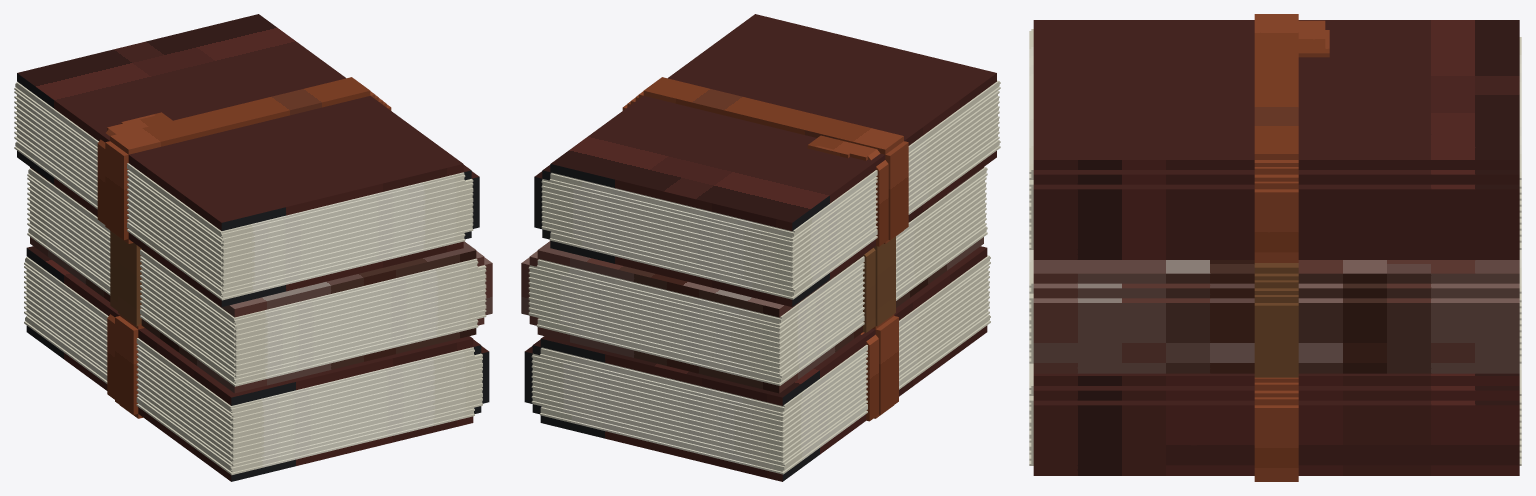
The model's file is stack_of_books_3.gltf.
3 views of the same model, side by side, from view 1: azimuth 30°, elevation 25°; view 2: azimuth 150°, elevation 25°; view 3: azimuth 270°, elevation 25° (orthographic). The views are drawn at different scales.
Visible parts, largest first — view 1: cube (×134); view 2: cube (×101); view 3: cube (×20).
Part boxes in pixels (box(x1,y1,x2,y2)): cube (×134): box(14, 14, 486, 481); cube (×101): box(528, 14, 1000, 481); cube (×20): box(1033, 14, 1519, 475).
Size of the model in its own units: 0.5438 by 0.5031 by 0.6969.
5 materials, 5 textured.
